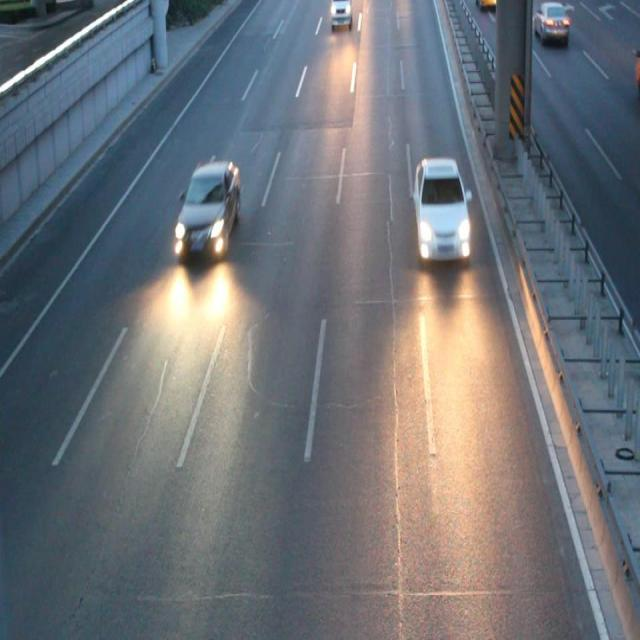car: (174, 161, 238, 254), (414, 157, 468, 258), (530, 1, 568, 38), (475, 1, 497, 13)
truck: (330, 1, 351, 25)
